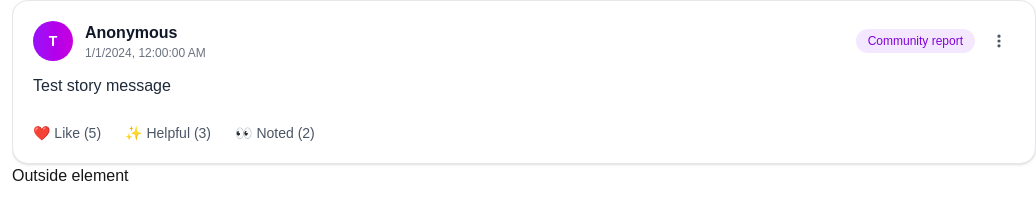
StoryCard Three-Dot Menu › should close menu when clicking outside
Click the button named "Story options".
click(999, 41)  # box [983,25,1015,57]
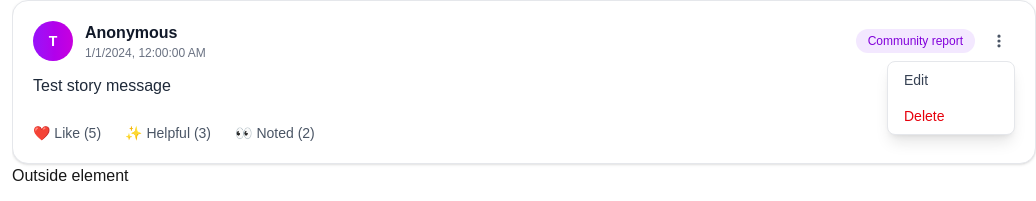
Check: the button "Edit" is shown, box [888,62,1014,98]
Click outside
Press the mouse on the text with test id "outside" at {"x": 70, "y": 176}, box [12,167,128,184]
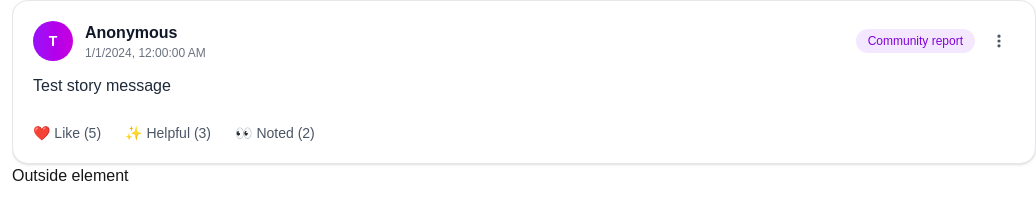
Check: the button "Edit" is gone
